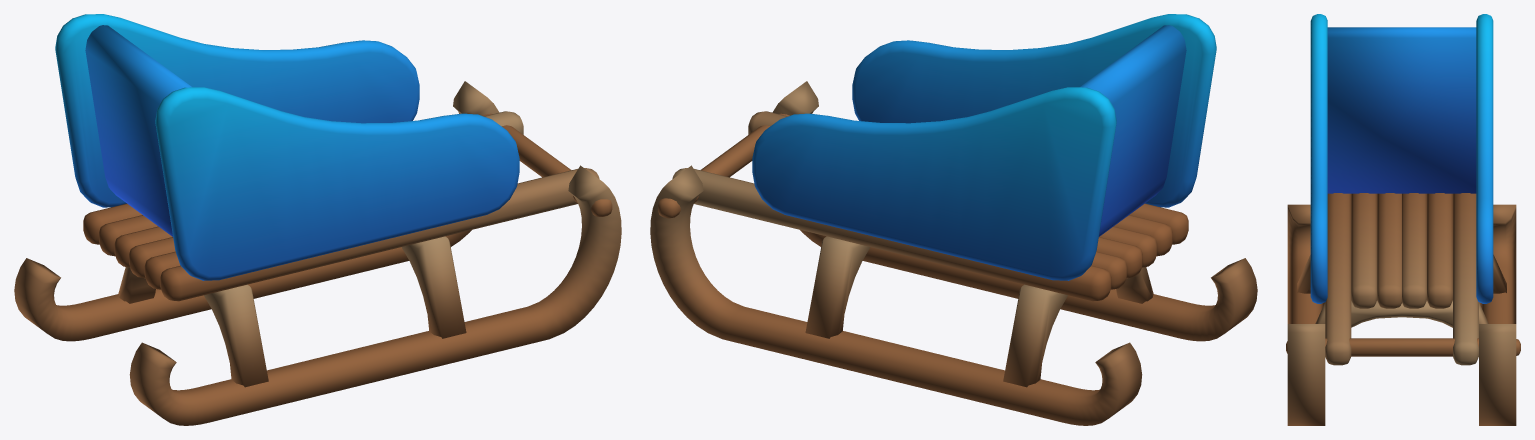
The model's file is Sleigh_02.fbx.
3 views of the same model, side by side, from view 1: azimuth 30°, elevation 25°; view 2: azimuth 150°, elevation 25°; view 3: azimuth 270°, elevation 25° (orthographic). The views are drawn at different scales.
Parts seen in each view (by area): view 1: Sleigh_02; view 2: Sleigh_02; view 3: Sleigh_02.
Boxes of the visible parts, box(x1,y1,x2,y2) form: Sleigh_02: box(14, 14, 621, 425); Sleigh_02: box(650, 14, 1257, 425); Sleigh_02: box(1286, 14, 1520, 425).
Size of the model in its own units: 133 by 85.73 by 68.78.
